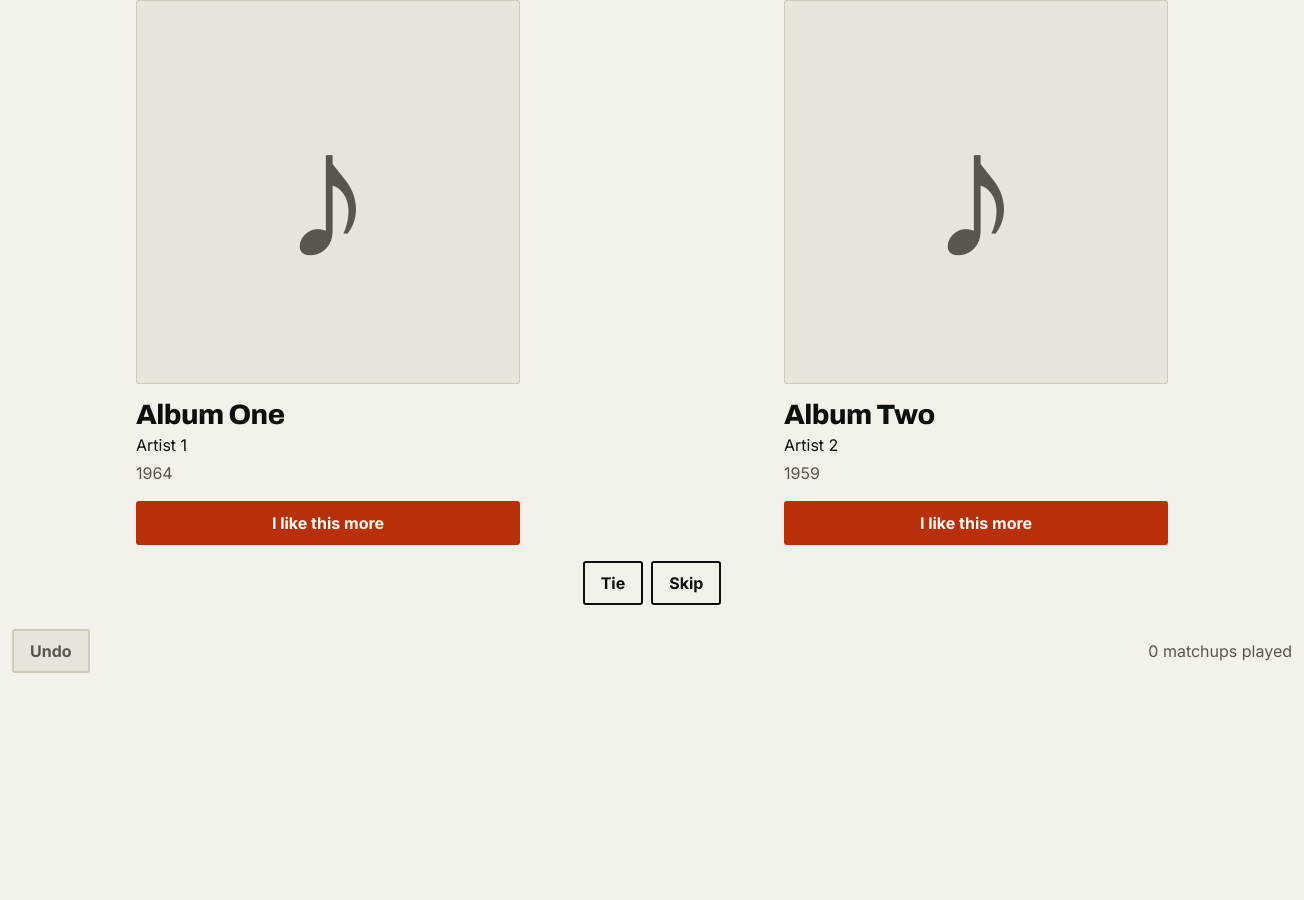
Test: matchup screen › a tie sends the answer and shows the next pair, the counter and the line
Click the button "Tie" at (613, 583), box [583, 561, 643, 605]
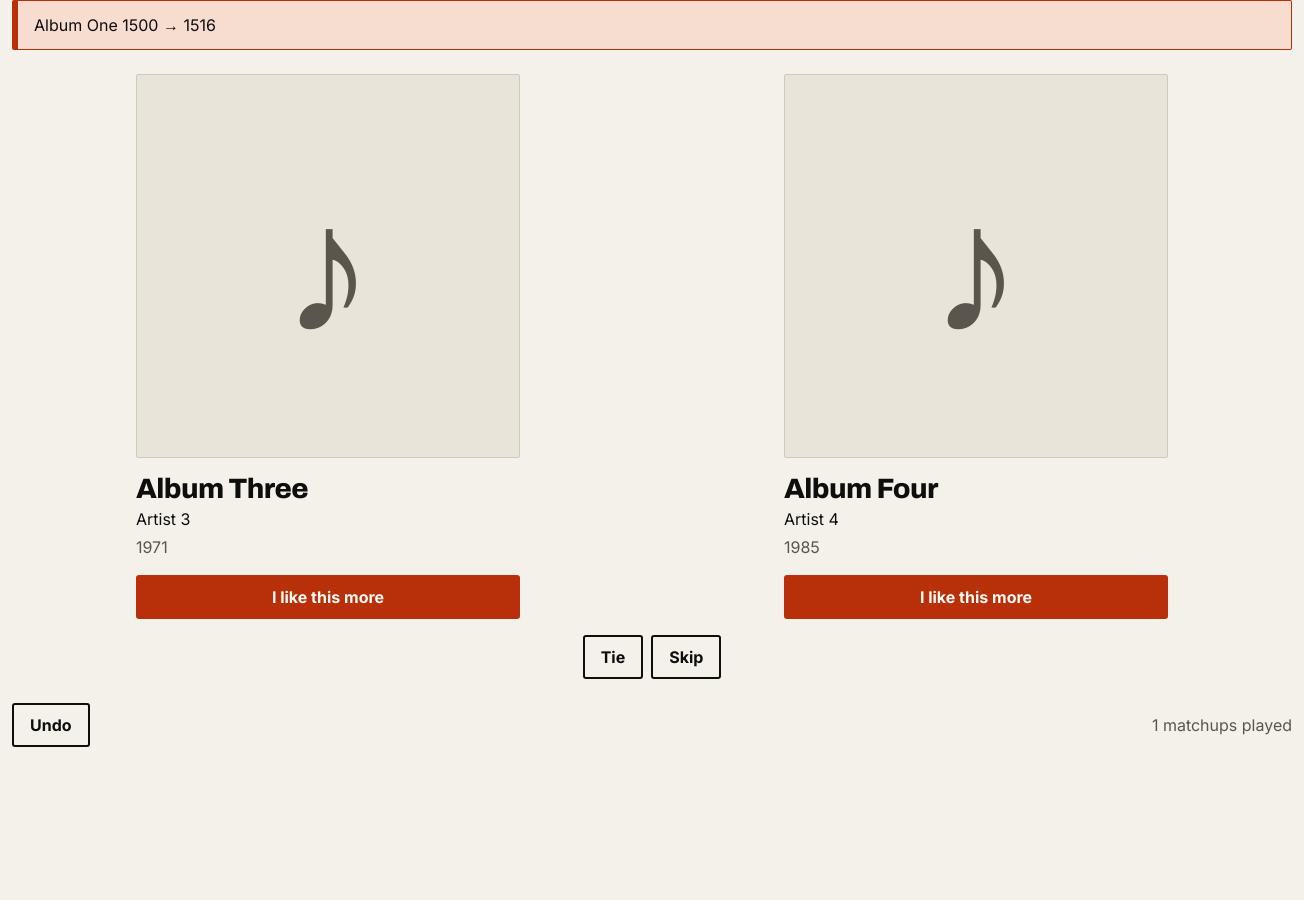
Check: the text "Album Three" is shown, box [136, 473, 308, 504]
Check: the text "Album One 1500 → 1516" is shown, box [12, 0, 1292, 50]
Check: the text "1 matchups played" is shown, box [1152, 713, 1292, 737]
